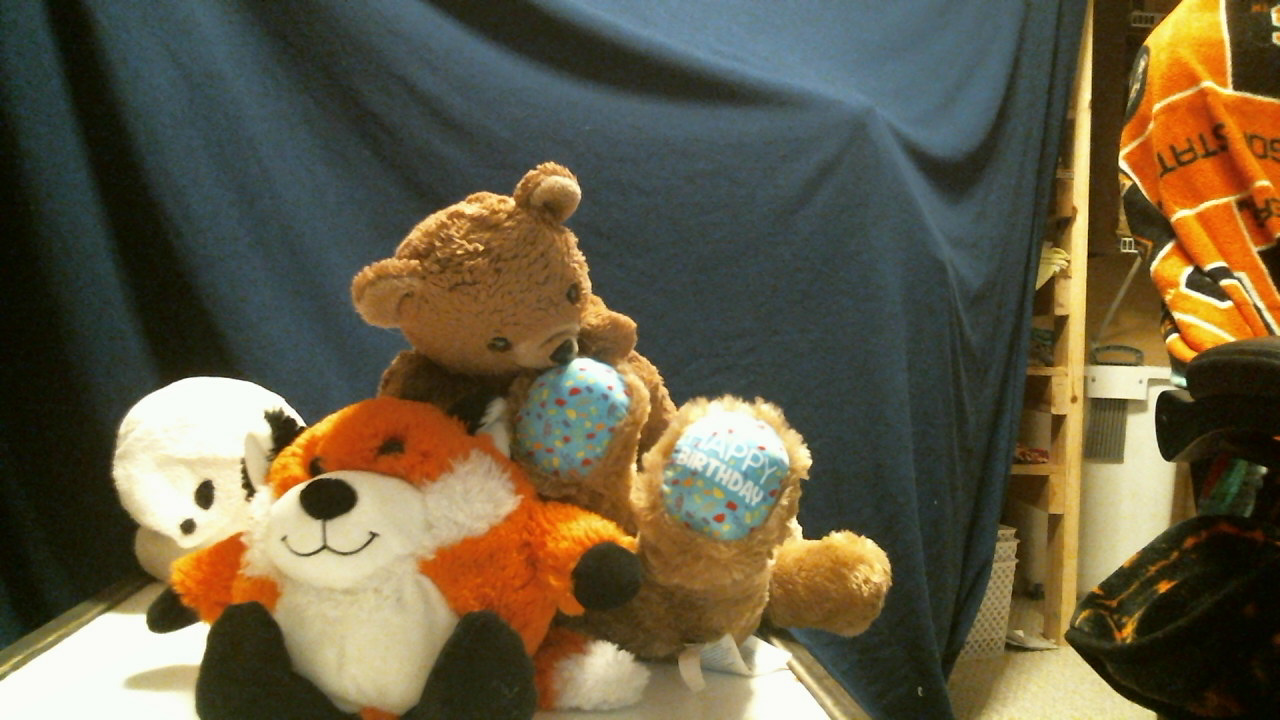Little_Mister_Bear: (482, 278, 593, 369)
